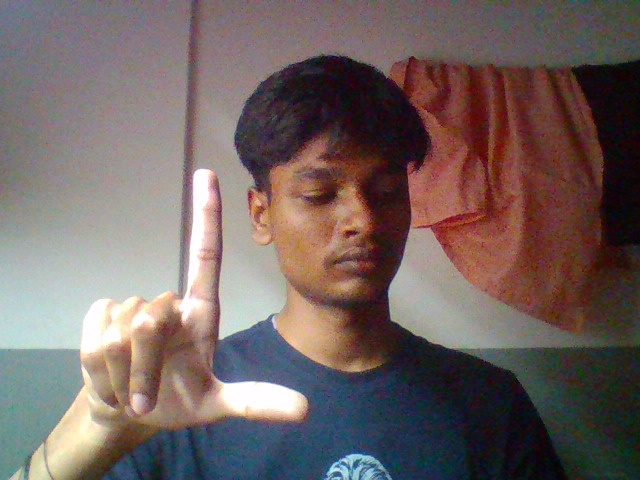L: (50, 159, 333, 476)
